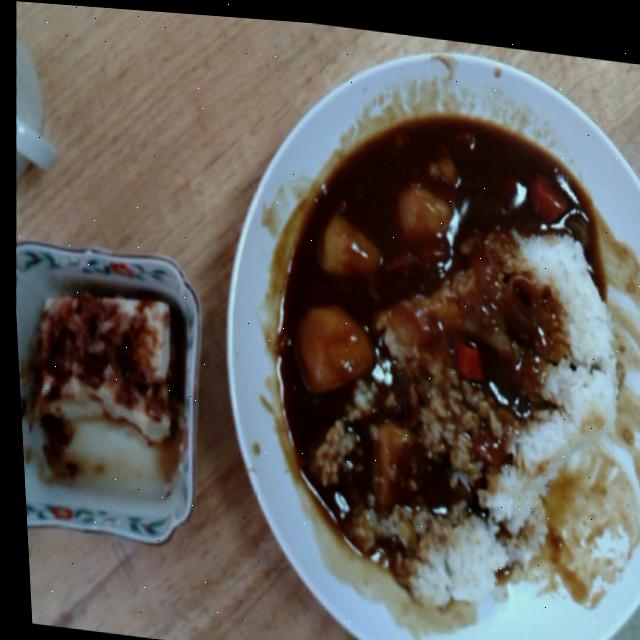牛肉菜式: (192, 20, 640, 640)
